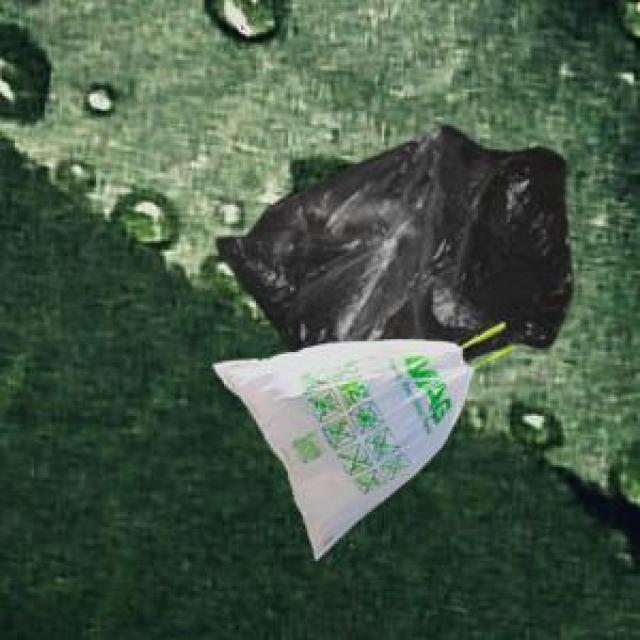waste: (215, 126, 571, 557)
